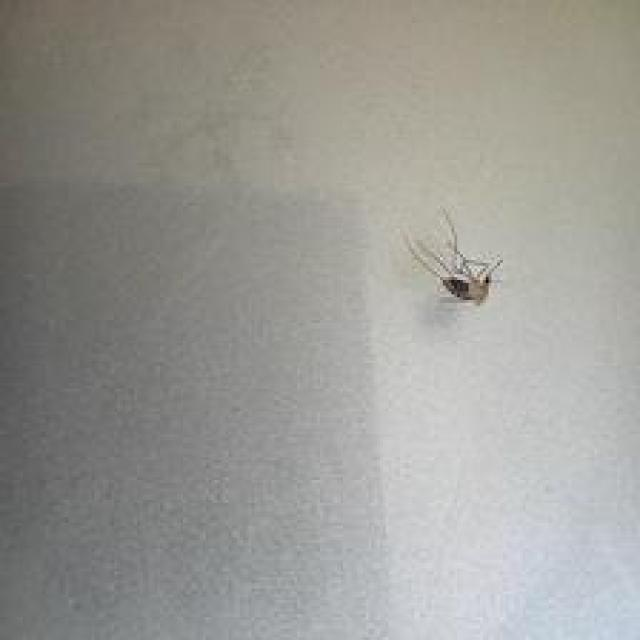Culex: (403, 208, 503, 308)
